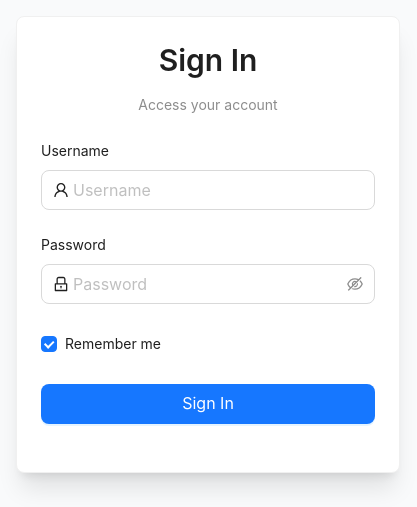
Test: LoginForm test › shows validation errors when form is submitted empty
Click the button "Sign In" at point(208, 404), box [41, 384, 375, 424]
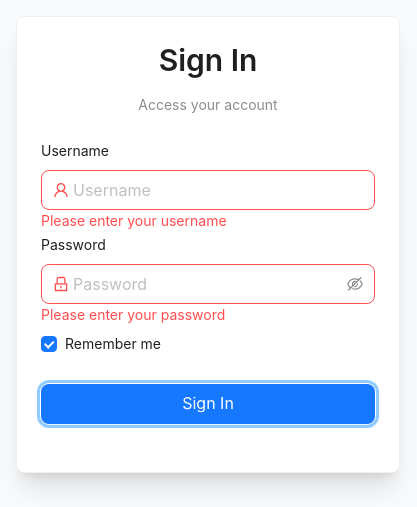
Now the text "Please enter your username" is shown, box [41, 212, 227, 228]
Now the text "Please enter your password" is shown, box [41, 306, 225, 322]
